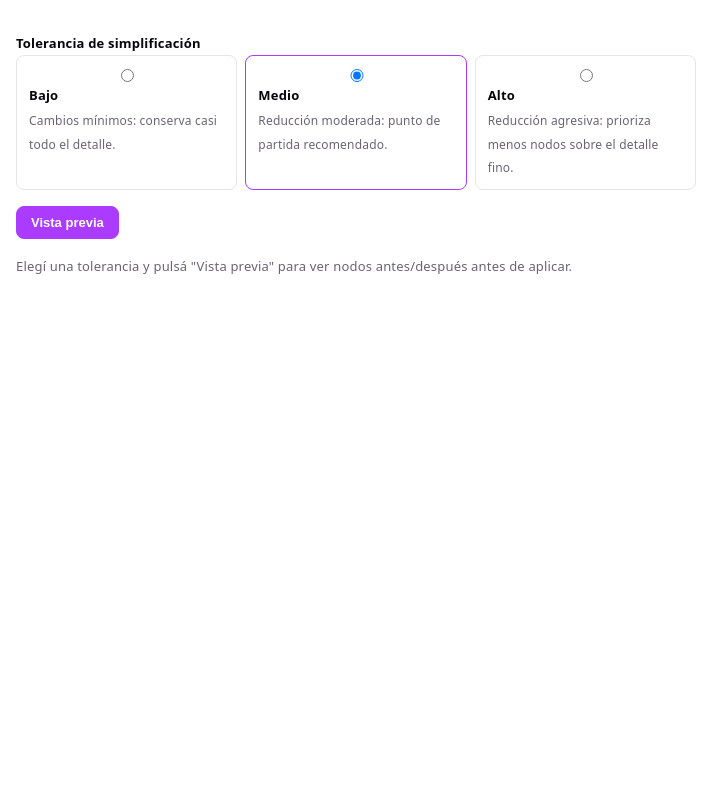
Test: SimplifyPanel — flujo de preview › al pulsar 'Vista previa' pide el preview y muestra nodeCount antes/después y % de reducción, sin persistir
This screenshot has width=713, height=790.
What coordinates should you click on to do the following:
click the button "Vista previa"
I would click on:
 (67, 222)
Its box is left=16, top=206, right=119, bottom=239.
(page scrolled)
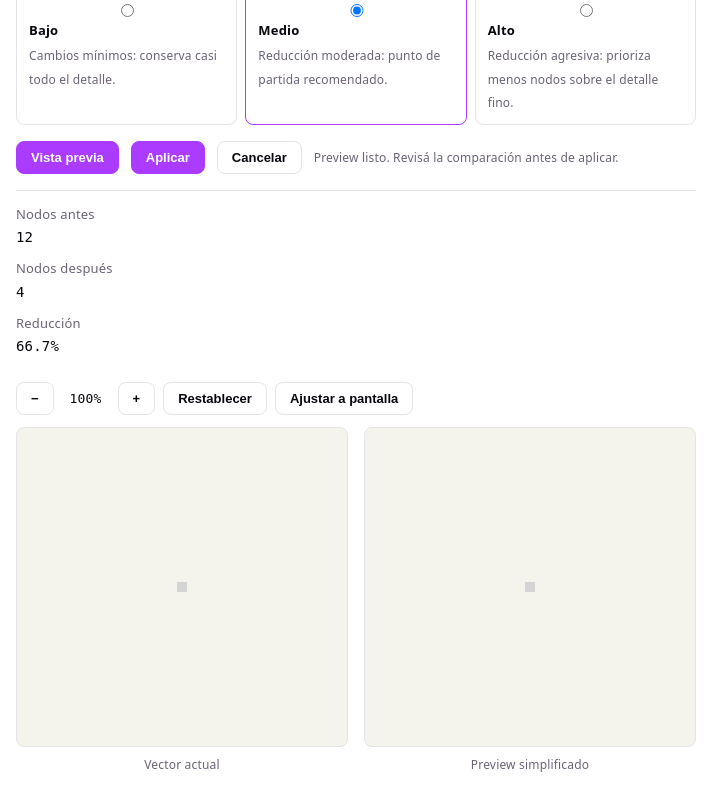
Expected: the text "12" is shown, left=16, top=229, right=33, bottom=245
Expected: the text "4" is shown, left=16, top=284, right=25, bottom=300
Expected: the text "66.7%" is shown, left=16, top=338, right=59, bottom=354
